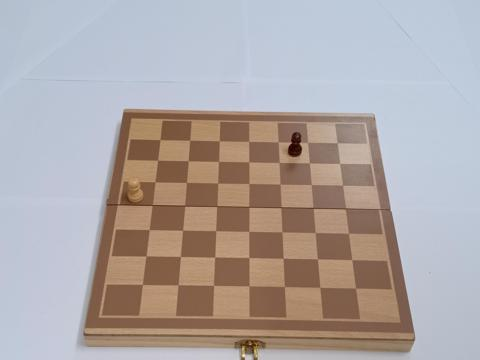xcorner: (173, 280, 183, 290), (214, 137, 224, 147), (334, 159, 344, 169), (151, 178, 160, 188), (184, 157, 193, 167), (176, 252, 185, 262), (213, 179, 222, 189), (244, 227, 253, 237), (276, 203, 285, 213), (279, 254, 288, 264), (337, 181, 347, 190), (341, 204, 350, 214), (351, 284, 361, 293), (156, 137, 165, 146), (154, 157, 163, 166), (148, 201, 157, 210), (145, 226, 154, 235), (142, 252, 151, 261), (138, 280, 147, 289), (185, 137, 194, 146), (182, 179, 191, 188), (180, 202, 189, 211), (178, 226, 187, 235), (214, 158, 223, 167), (212, 202, 221, 211), (211, 227, 220, 236), (210, 253, 219, 262), (209, 281, 218, 290), (244, 138, 253, 147), (244, 158, 253, 167), (244, 180, 253, 189), (244, 203, 253, 212), (244, 254, 253, 263), (244, 282, 253, 291), (273, 138, 282, 147), (274, 159, 283, 168), (275, 180, 284, 189), (277, 228, 286, 237), (280, 283, 289, 292), (302, 139, 311, 148), (304, 159, 313, 168), (306, 181, 315, 190), (308, 204, 317, 213), (311, 229, 320, 238), (313, 255, 322, 264), (316, 283, 325, 292), (332, 139, 341, 148), (344, 229, 353, 238), (348, 256, 357, 265)
